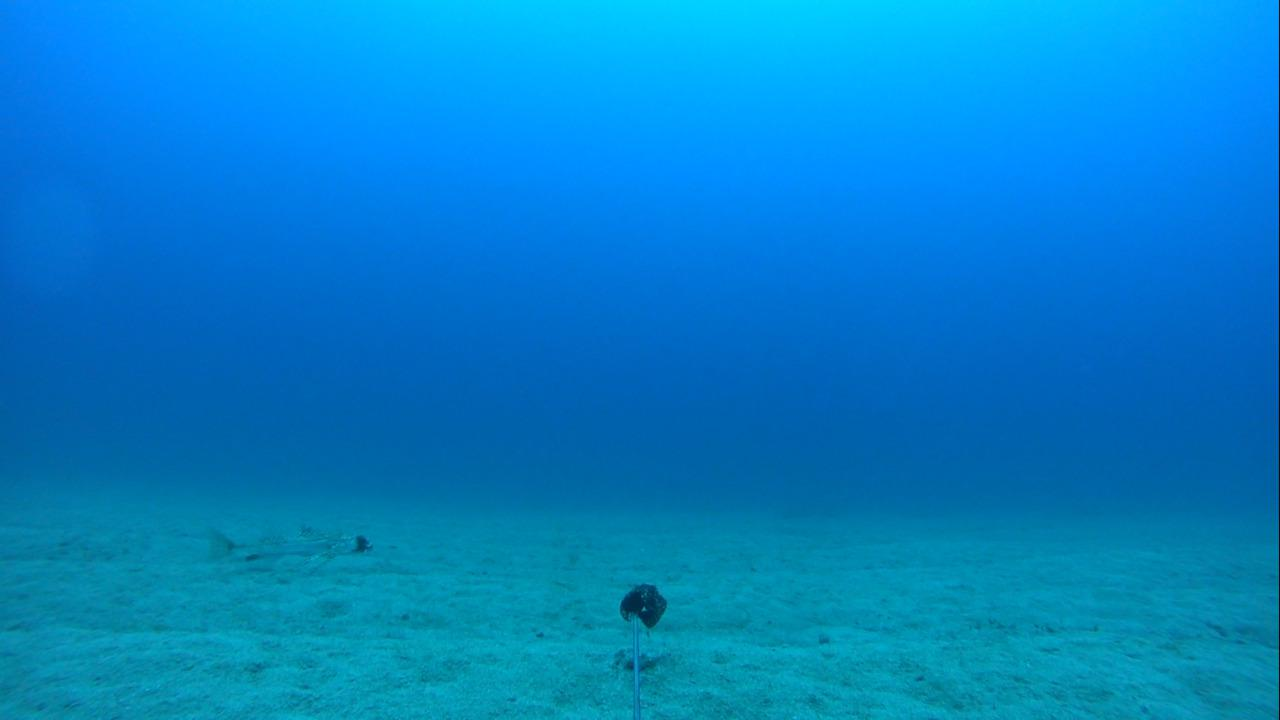dactylopterus: (194, 512, 375, 582)
